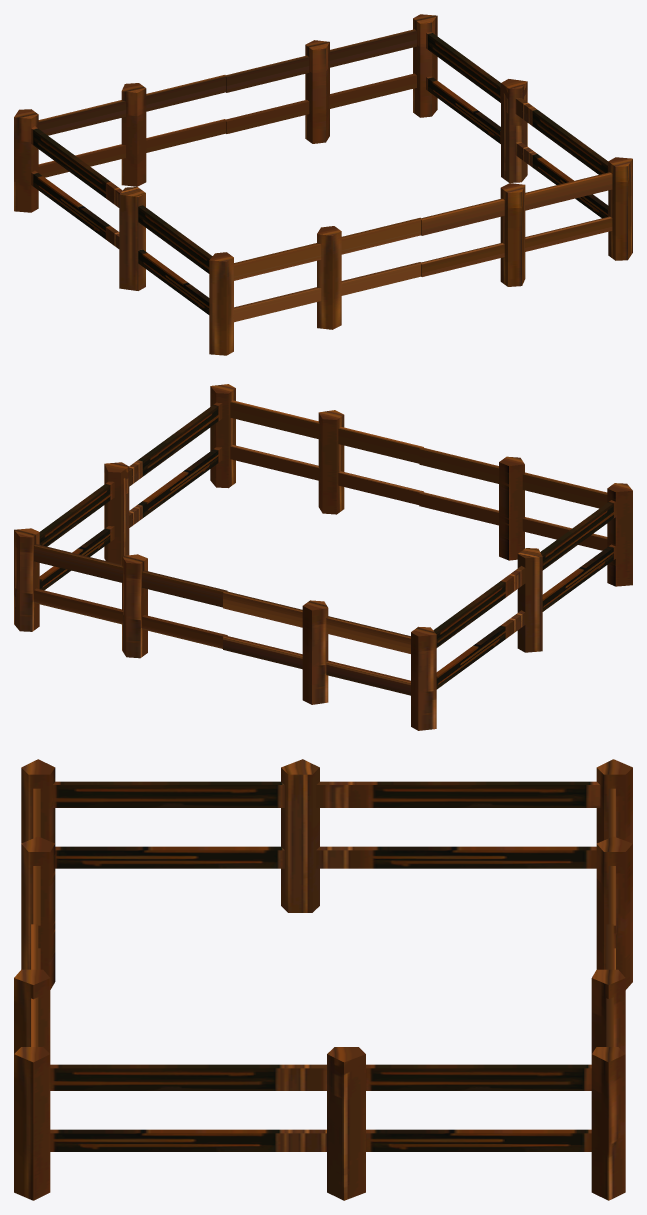
The model's file is Farmm.glb.
3 views of the same model, one above another, from view 1: azimuth 30°, elevation 25°; view 2: azimuth 150°, elevation 25°; view 3: azimuth 270°, elevation 25° (orthographic). The views are drawn at different scales.
Parts seen in each view (by area): view 1: Farmm; view 2: Farmm; view 3: Farmm.
Part boxes in pixels (x1,y1,x2,y2): Farmm: (14, 14, 632, 355); Farmm: (14, 384, 632, 730); Farmm: (14, 759, 632, 1200).
Bounding box in the file's own units: 397 × 84.4 × 342.
Materials: 1 (1 with a texture image).
